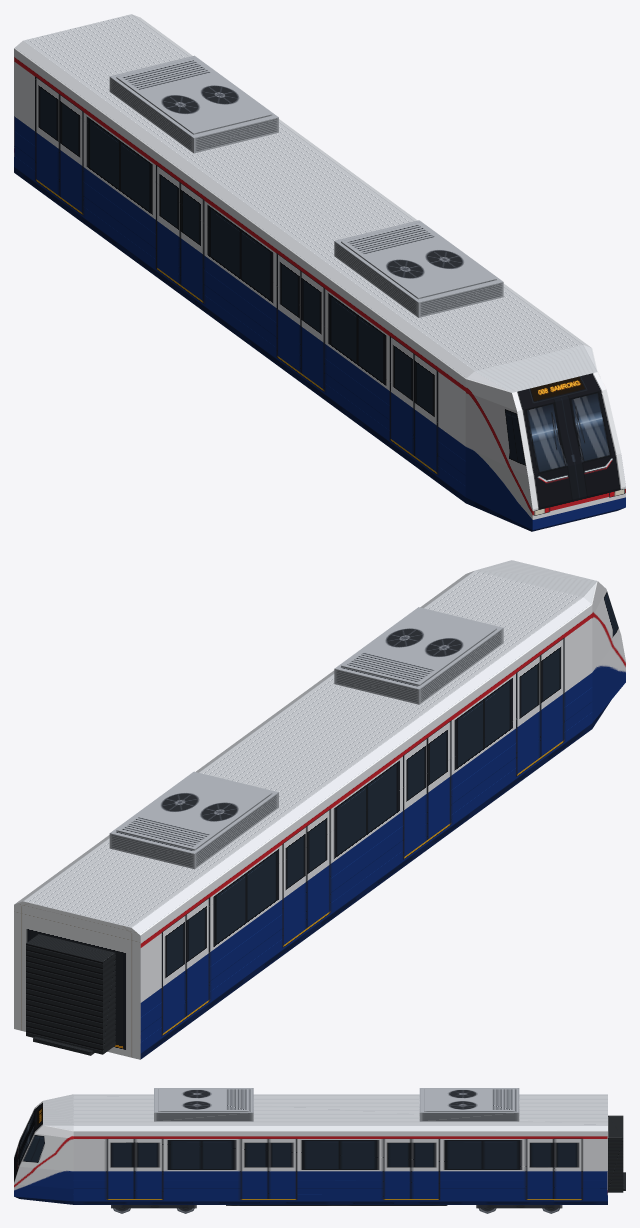
The model's file is BTS_Train_Cab.obj.
The picture shows the model from 3 angles, top to bottom: view 1: azimuth 30°, elevation 25°; view 2: azimuth 150°, elevation 25°; view 3: azimuth 270°, elevation 25°; orthographic projection. The views are drawn at different scales.
Visible parts, largest first — view 1: BTS_Train_Cab; view 2: BTS_Train_Cab; view 3: BTS_Train_Cab.
Boxes of the visible parts, x1=… form: BTS_Train_Cab: x1=14, y1=14, x2=625, y2=531; BTS_Train_Cab: x1=14, y1=560, x2=625, y2=1059; BTS_Train_Cab: x1=14, y1=1088, x2=625, y2=1213.
Size of the model in its own units: 3.12 by 4.19 by 22.1.
1 material, 1 textured.
